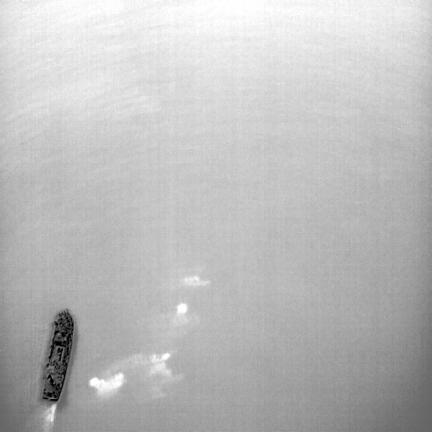flukeprints: (89, 372, 124, 395), (150, 359, 175, 380), (182, 275, 209, 286), (152, 353, 170, 360), (177, 303, 187, 314)
